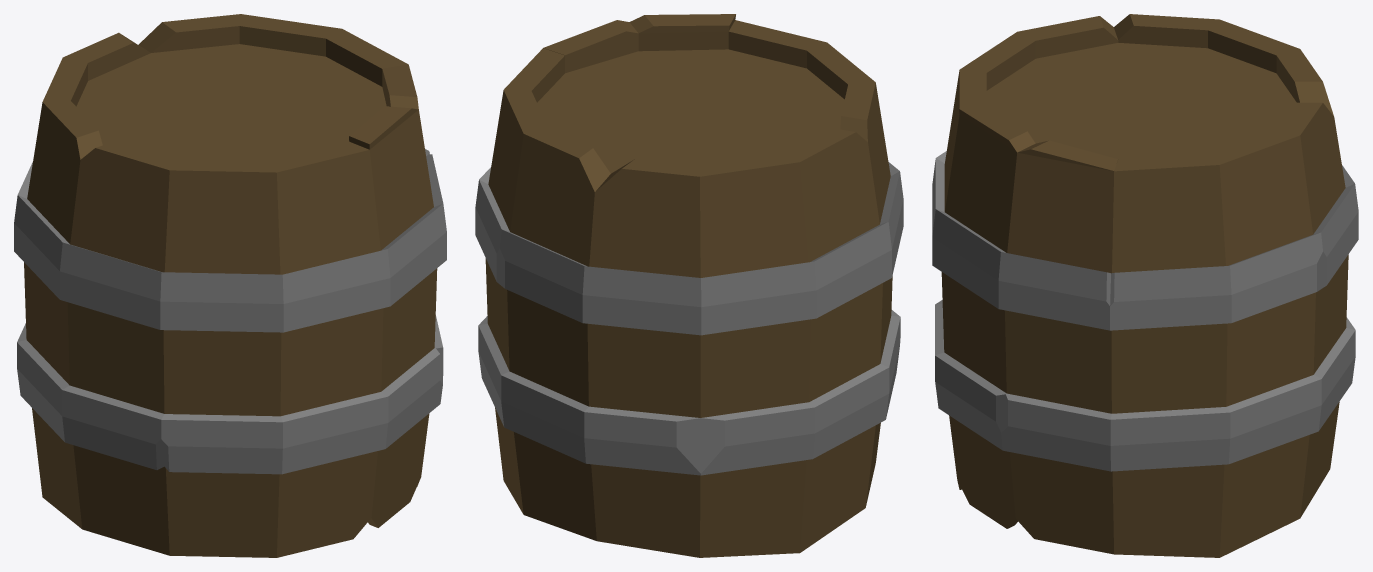
Rendered from barel_p.glb.
3 views of the same model, side by side, from view 1: azimuth 30°, elevation 25°; view 2: azimuth 150°, elevation 25°; view 3: azimuth 270°, elevation 25° (orthographic).
Parts seen in each view (by area): view 1: Cylinder; view 2: Cylinder; view 3: Cylinder.
Part boxes in pixels (box(x1,y1,x2,y2)): Cylinder: box(14, 14, 446, 557); Cylinder: box(475, 14, 903, 557); Cylinder: box(932, 14, 1358, 557).
Size of the model in its own units: 2.28 by 2.33 by 2.25.
